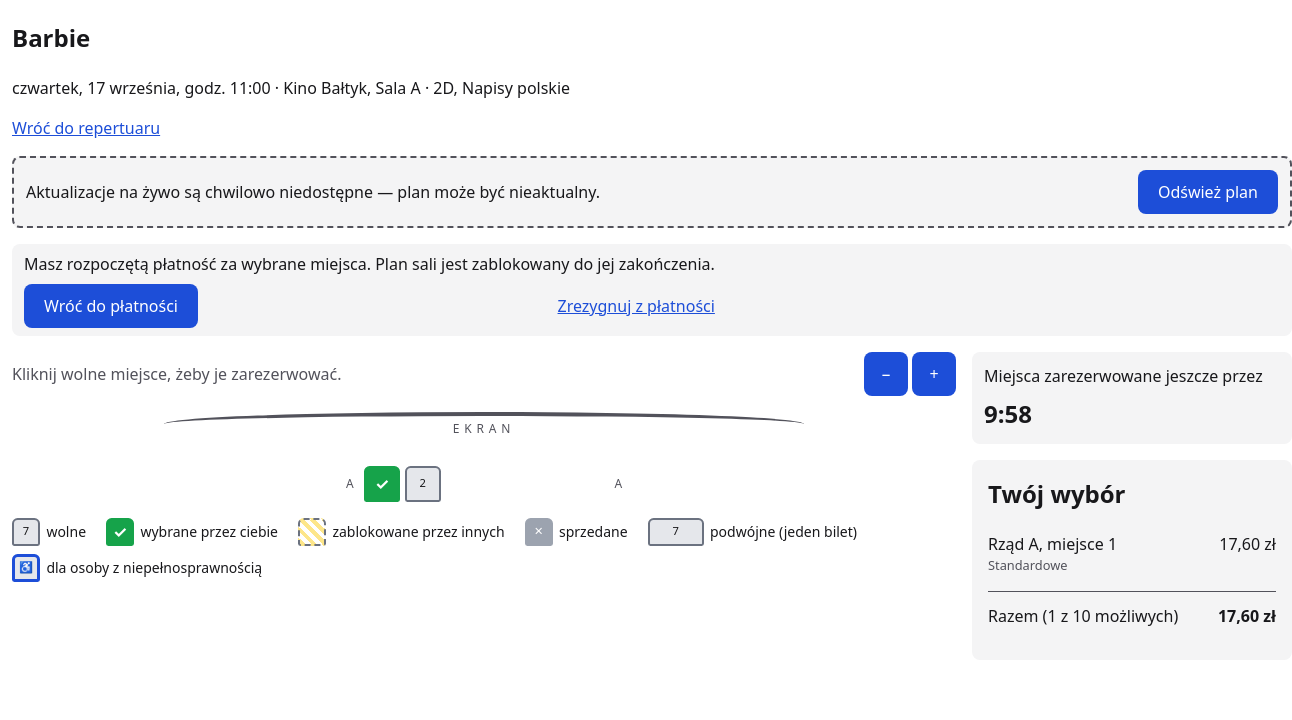
Test: plan sali a checkout (blok H2) › rezygnacja z planu sali: płatność anulowana, koszyk pusty, plan znów klikalny
Click the button with test id "abandon-payment": (636, 306) [558,294,715,318]
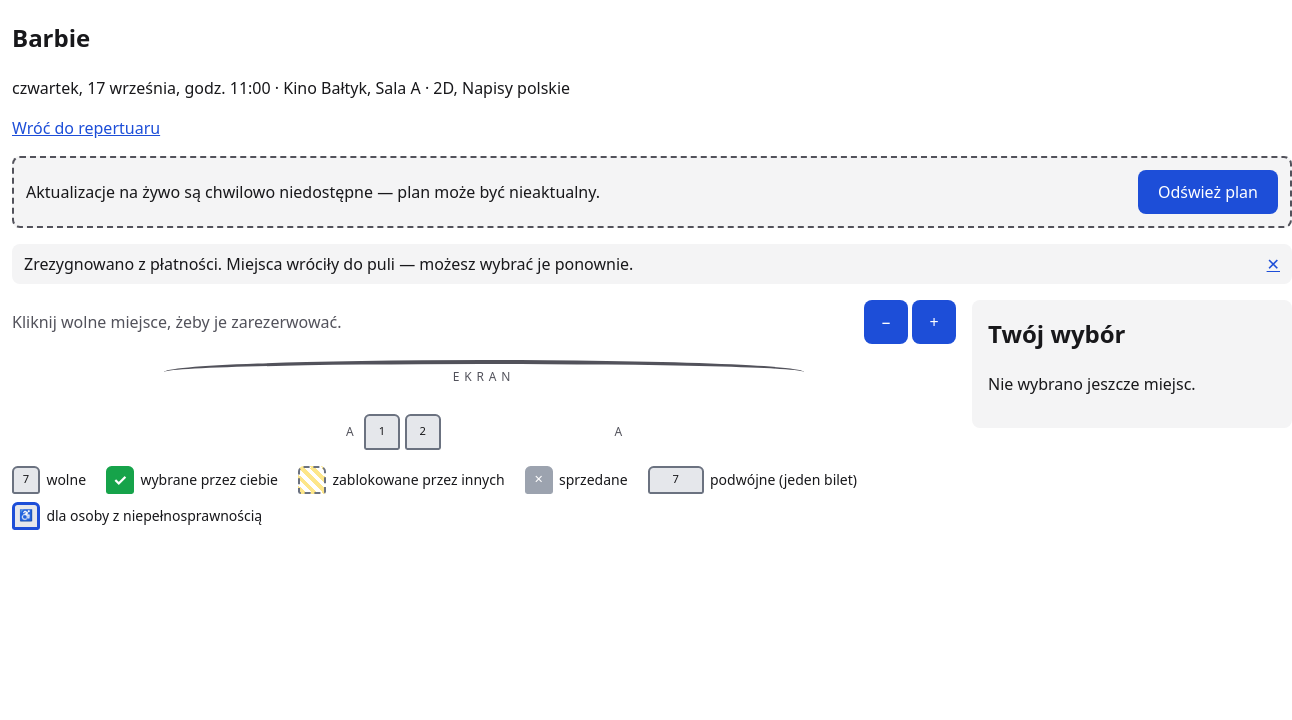
Expected: the message with test id "cart-notice" shows "Zrezygnowano z płatności", [24,253,633,275]
